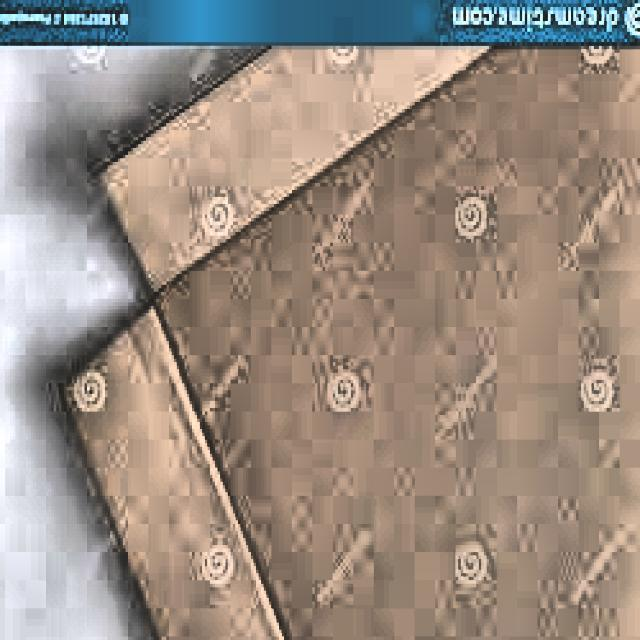cardboard: (59, 46, 640, 640)
